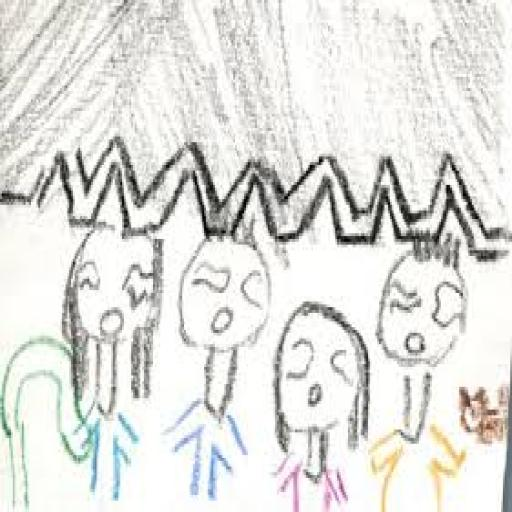person: (56, 221, 166, 503), (170, 231, 275, 511), (375, 234, 477, 512), (271, 295, 369, 512)
